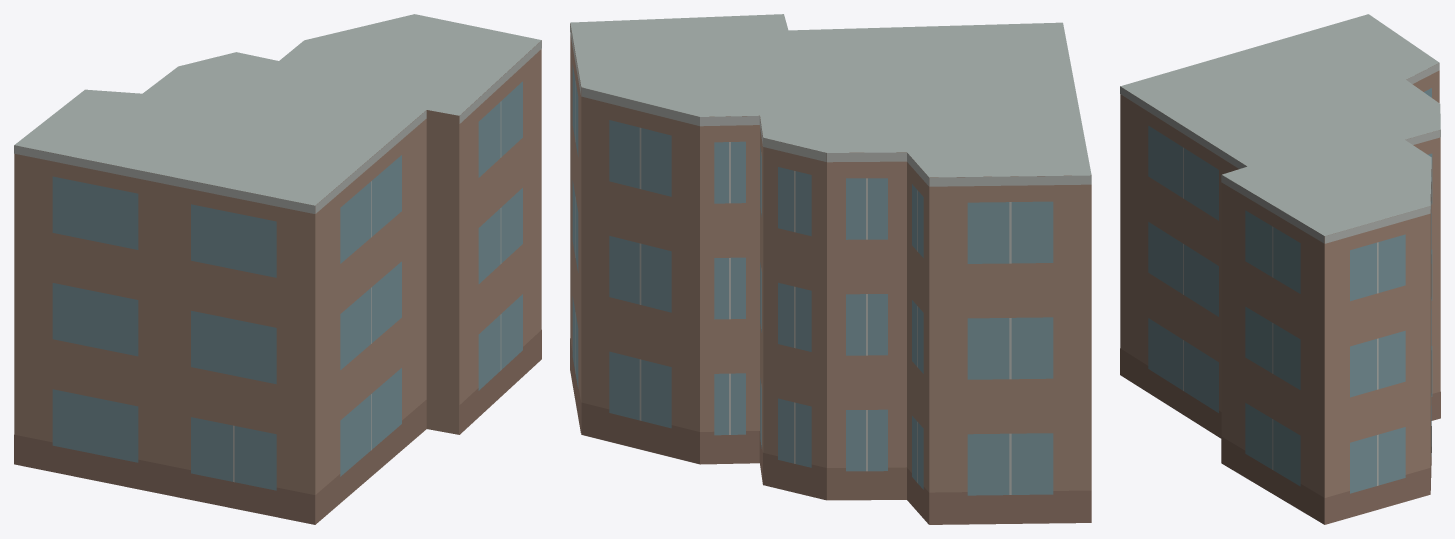
File: survey-upis-32679391.glb
3 views of the same model, side by side, from view 1: azimuth 30°, elevation 25°; view 2: azimuth 150°, elevation 25°; view 3: azimuth 270°, elevation 25° (orthographic). The views are drawn at different scales.
Visible parts, largest first — view 1: survey-upis-32679391.tmp; view 2: survey-upis-32679391.tmp; view 3: survey-upis-32679391.tmp.
Boxes of the visible parts, <box> form: survey-upis-32679391.tmp: <box>14,14,541,524</box>; survey-upis-32679391.tmp: <box>570,14,1091,524</box>; survey-upis-32679391.tmp: <box>1120,14,1440,524</box>.
Size of the model in its own units: 15.11 by 9.15 by 9.22.
